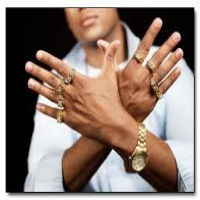ring: (25, 74, 64, 106), (154, 42, 182, 85)
